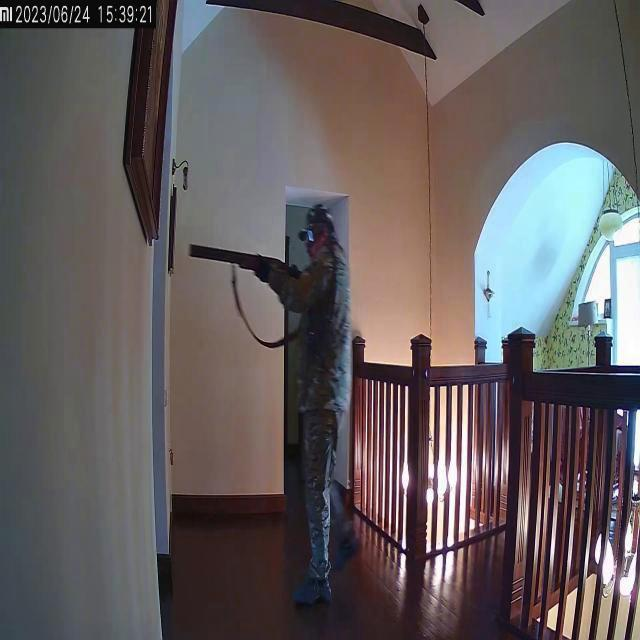gun: (186, 201, 354, 610), (187, 240, 306, 294)
